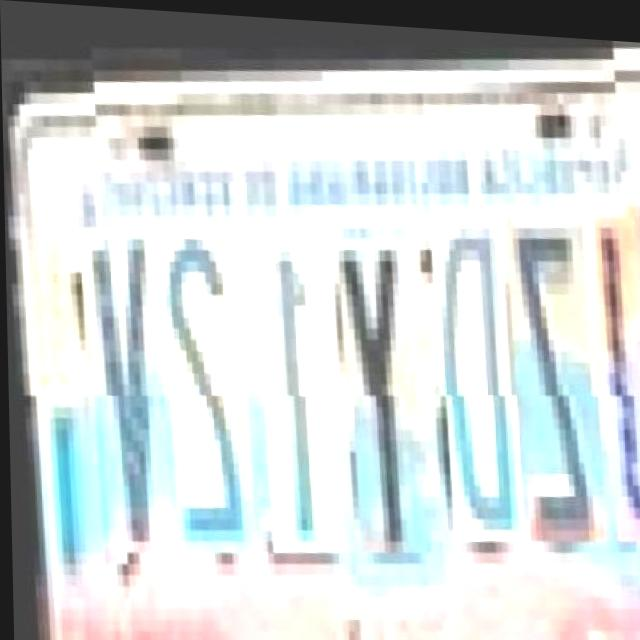1: (246, 213, 331, 546)
2: (152, 214, 243, 547)
d: (427, 202, 512, 535)
u: (591, 201, 640, 532)
v: (77, 214, 161, 545)
y: (334, 214, 419, 546)
z: (504, 203, 595, 535)
